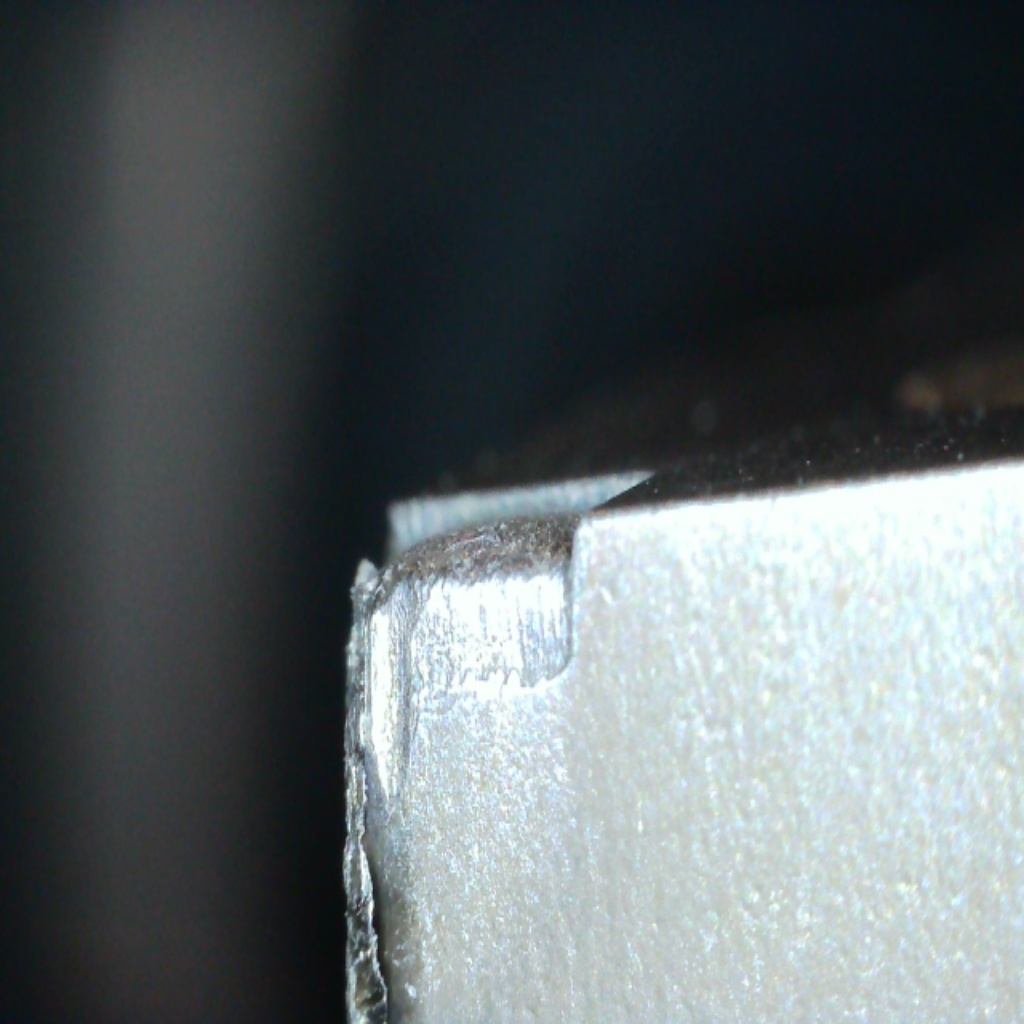flank_wear: (354, 622, 574, 724), (347, 631, 394, 1018)
